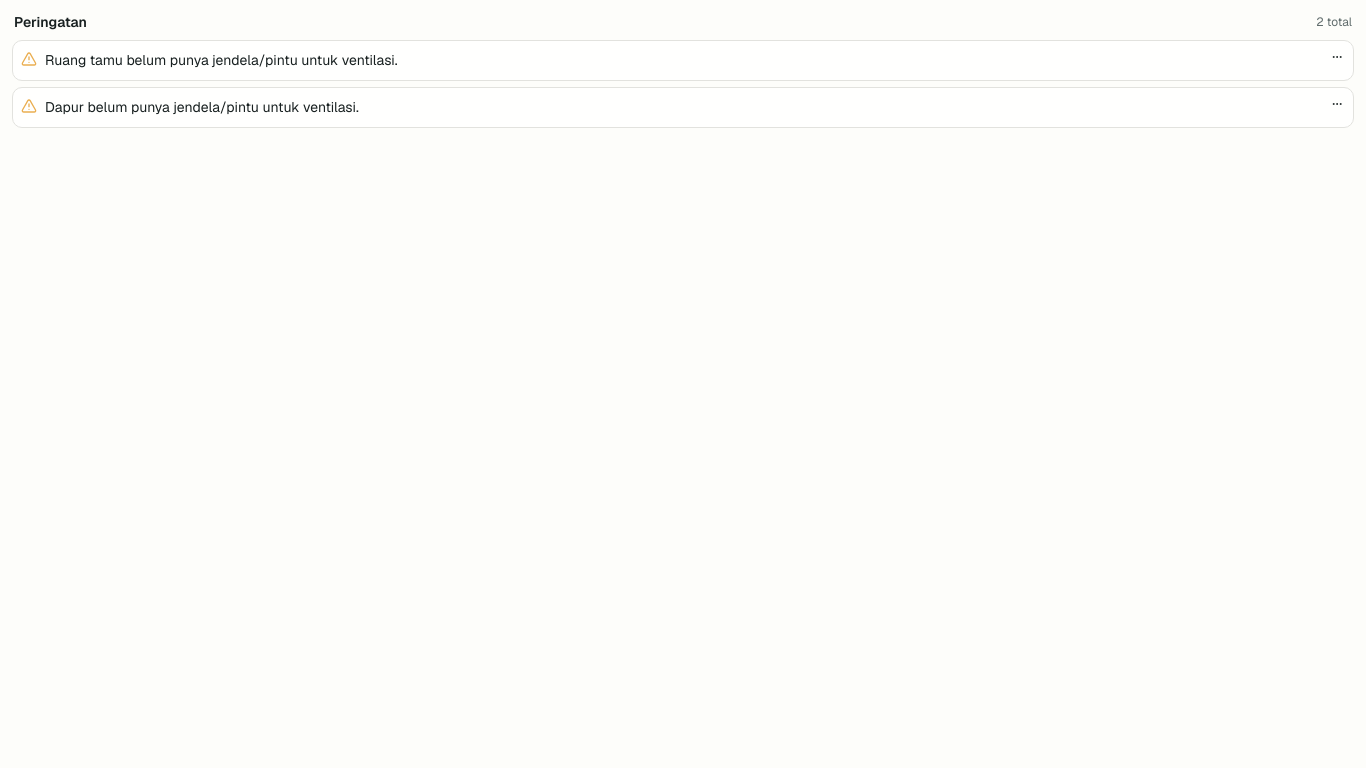
EditorWarningsList › Show detail membuka dialog 'Detail Peringatan'
Press the mouse on the 1st button named "Aksi peringatan" at (1337, 57), box [1325,45,1349,69]
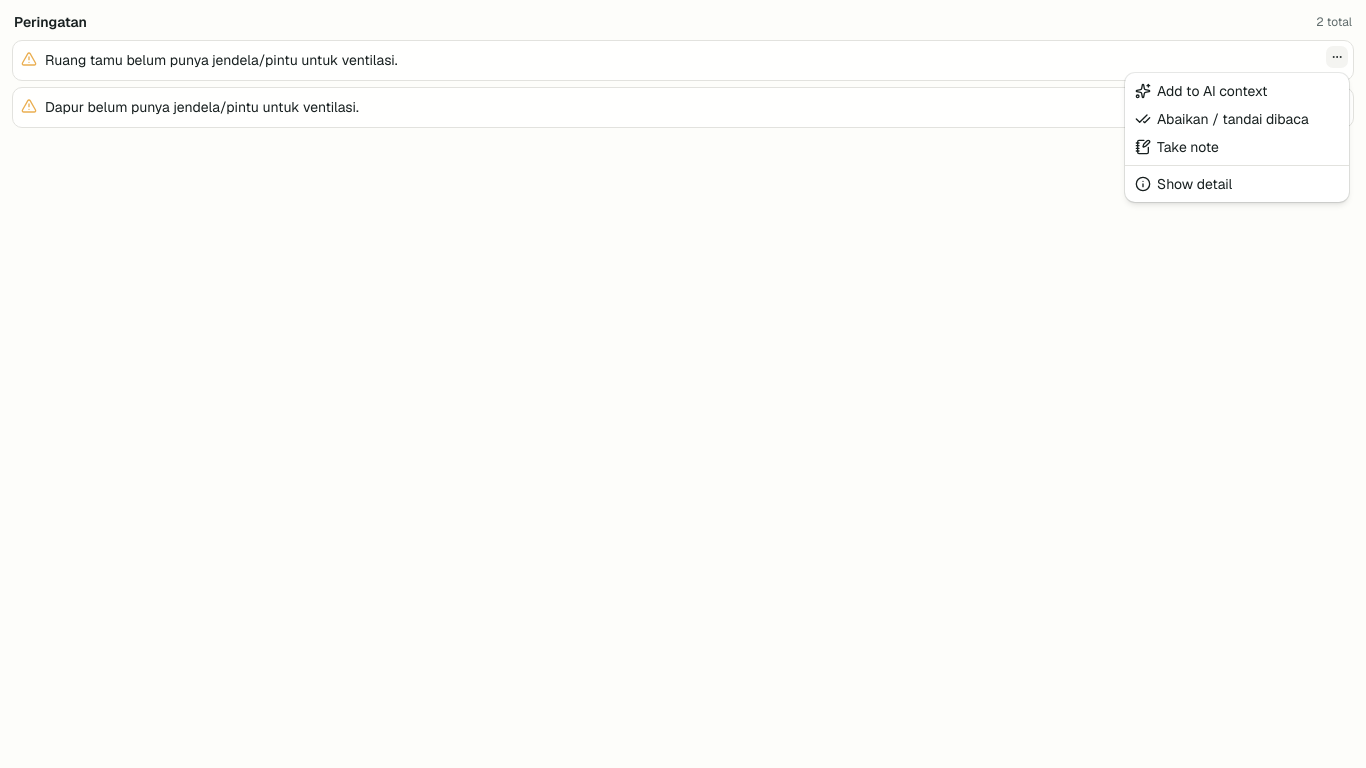
Click the menu item "Show detail" at (1184, 184), box [1135,175,1232,193]
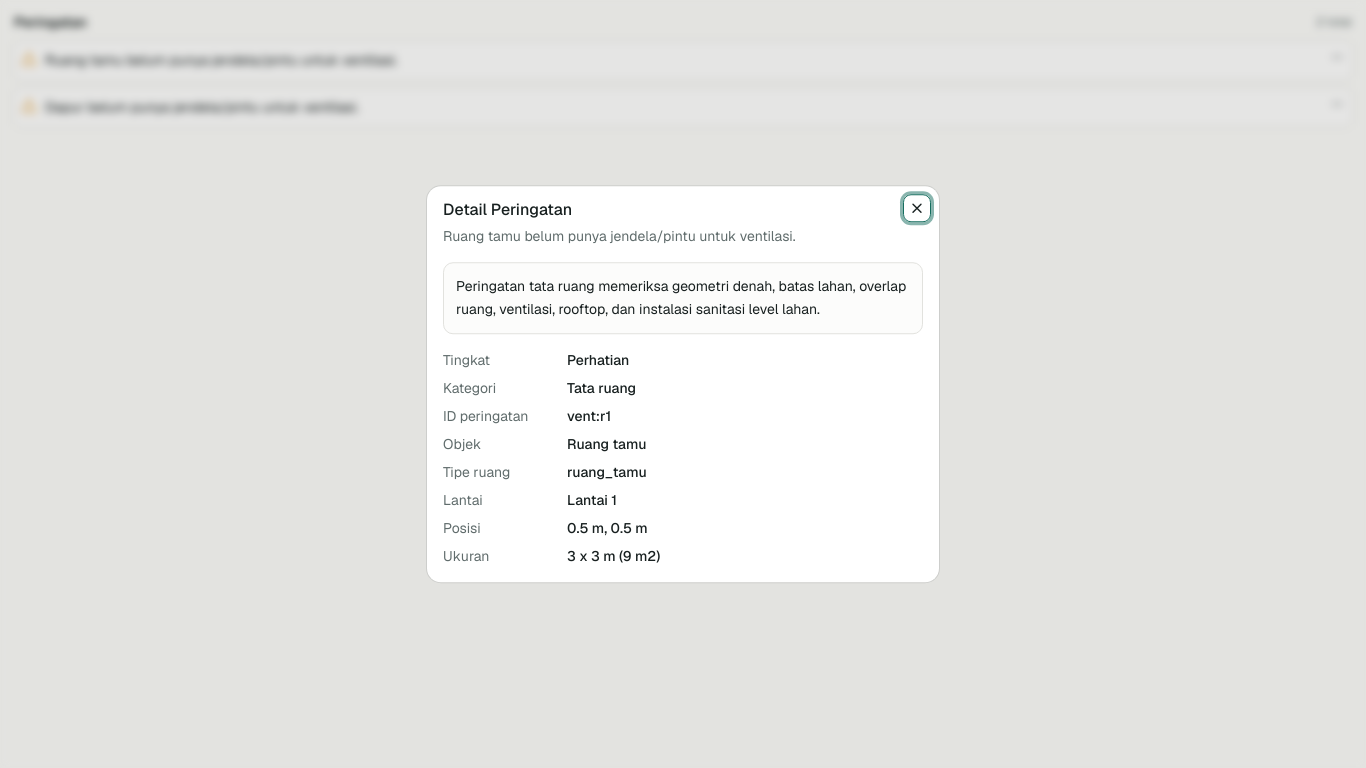
Check: the dialog "Detail Peringatan" is shown, box [427,186,939,582]
